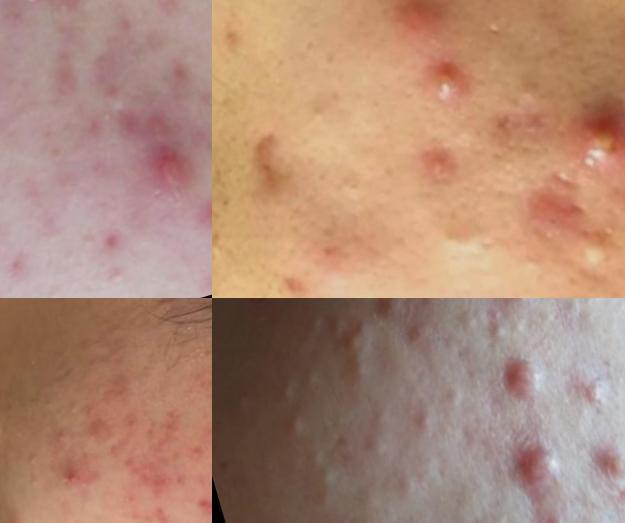acne_scars: (410, 52, 484, 122), (175, 483, 213, 523)
cystic: (549, 90, 625, 196)
papular: (472, 329, 544, 410), (374, 1, 468, 55), (502, 422, 581, 485), (139, 399, 208, 463), (117, 448, 179, 514), (144, 141, 203, 207), (569, 362, 625, 420), (74, 415, 115, 459), (530, 495, 592, 523), (276, 506, 364, 523), (47, 426, 77, 456), (1, 506, 33, 523), (1, 101, 11, 149)
purulent: (596, 418, 625, 476), (53, 459, 93, 498), (9, 1, 50, 17)
whitehead: (409, 130, 480, 204), (558, 218, 625, 289), (499, 232, 557, 284), (298, 440, 348, 493), (332, 148, 371, 212), (390, 464, 440, 513), (478, 309, 540, 346), (427, 211, 471, 261), (269, 362, 314, 410), (296, 91, 337, 137), (88, 92, 123, 136), (13, 444, 53, 480), (440, 376, 475, 414), (304, 299, 333, 336), (56, 394, 90, 424), (282, 412, 316, 442), (359, 428, 385, 461), (213, 237, 227, 271)
